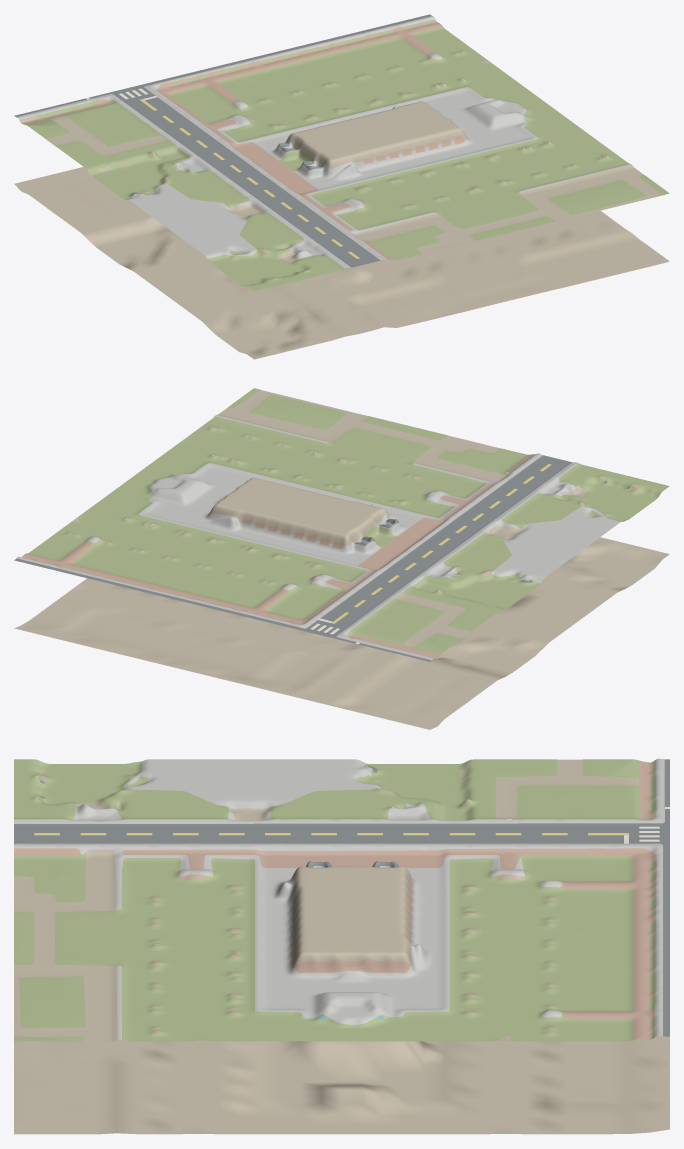
3 renders of one model, top to bottom at view 1: azimuth 30°, elevation 25°; view 2: azimuth 150°, elevation 25°; view 3: azimuth 270°, elevation 25°, orthographic. The views are drawn at different scales.
Parts seen in each view (by area): view 1: s_-5_4__soil, s_-5_4__grass, s_-5_4__stone_paving, s_-5_4__asphalt, s_-5_4__brick_paving, s_-5_4__yellow_marking; view 2: s_-5_4__soil, s_-5_4__grass, s_-5_4__stone_paving, s_-5_4__asphalt, s_-5_4__brick_paving, s_-5_4__yellow_marking; view 3: s_-5_4__grass, s_-5_4__soil, s_-5_4__stone_paving, s_-5_4__asphalt, s_-5_4__brick_paving, s_-5_4__yellow_marking.
Boxes of the visible parts, x1,y1,x2,y2 form: s_-5_4__soil: (14, 60, 669, 359); s_-5_4__grass: (19, 19, 669, 291); s_-5_4__stone_paving: (16, 16, 631, 268); s_-5_4__asphalt: (14, 14, 431, 273); s_-5_4__brick_paving: (21, 19, 608, 280); s_-5_4__yellow_marking: (140, 99, 359, 258); s_-5_4__soil: (14, 390, 669, 729); s_-5_4__grass: (28, 388, 669, 654); s_-5_4__stone_paving: (17, 415, 621, 660); s_-5_4__asphalt: (14, 455, 630, 661); s_-5_4__brick_paving: (22, 427, 640, 658); s_-5_4__yellow_marking: (331, 464, 551, 623); s_-5_4__grass: (14, 759, 656, 1041); s_-5_4__soil: (14, 759, 669, 1134); s_-5_4__stone_paving: (14, 758, 664, 1040); s_-5_4__asphalt: (14, 759, 669, 1036); s_-5_4__brick_paving: (14, 761, 656, 1039); s_-5_4__yellow_marking: (34, 833, 628, 835).
Bounding box in the file's own units: 128 × 24.08 × 128.
